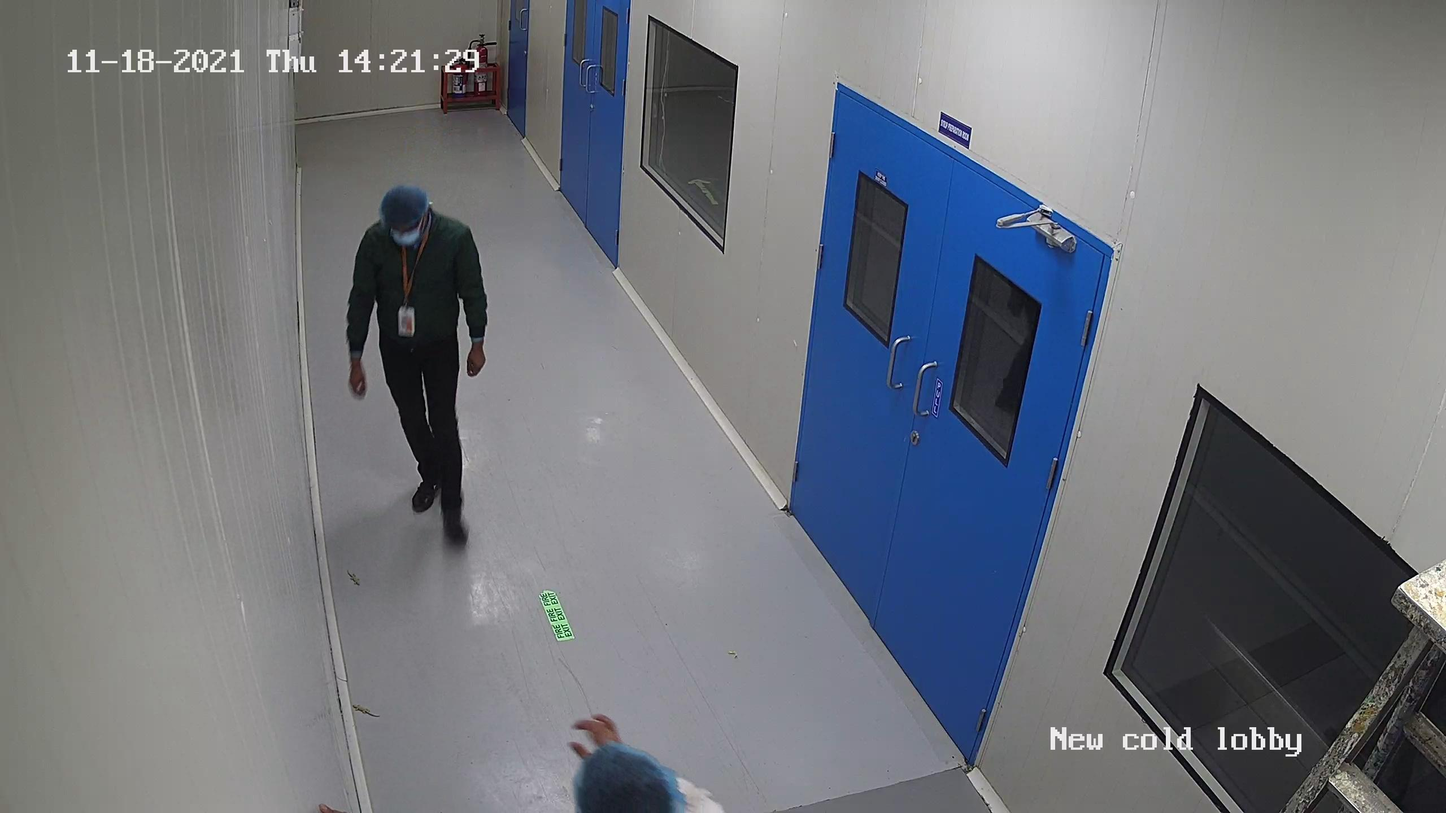lizard: (328, 551, 368, 600), (345, 687, 386, 731)
